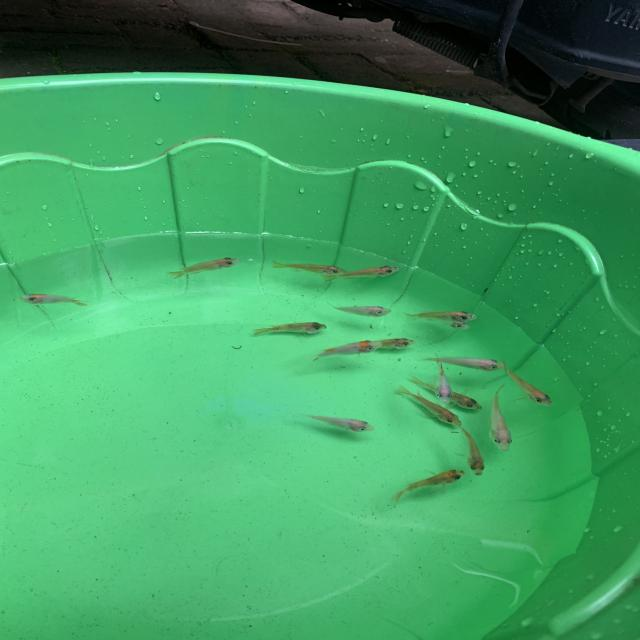nila: (491, 352, 561, 409), (402, 368, 484, 416), (396, 381, 466, 432), (388, 465, 469, 507), (297, 337, 387, 372), (447, 417, 497, 480), (483, 378, 522, 457), (418, 345, 516, 373), (297, 408, 384, 436), (242, 316, 338, 340), (168, 251, 244, 281), (323, 262, 400, 288), (10, 285, 97, 308), (270, 258, 356, 280), (347, 330, 426, 352), (319, 301, 392, 320), (408, 306, 482, 323), (430, 352, 451, 407), (427, 310, 476, 333)
